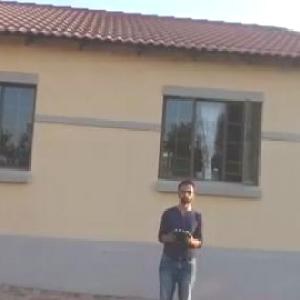follow: (151, 173, 208, 299)
